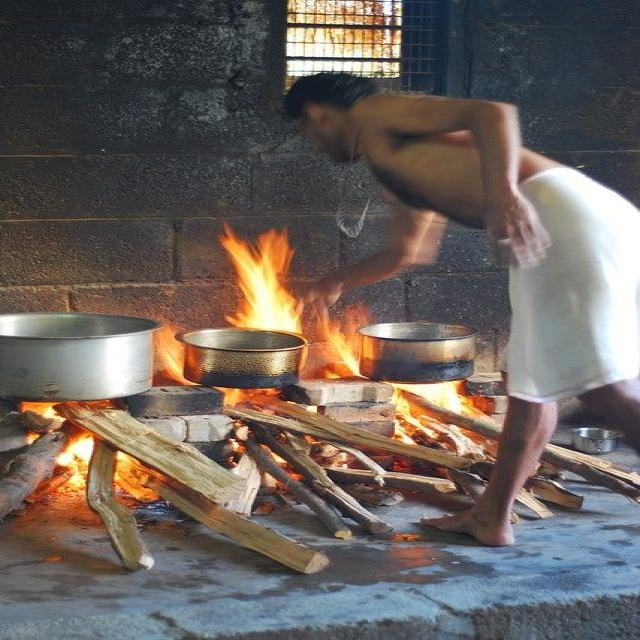fire: (217, 223, 303, 333), (391, 384, 437, 445), (320, 319, 362, 377), (56, 436, 94, 484), (410, 380, 462, 415)
